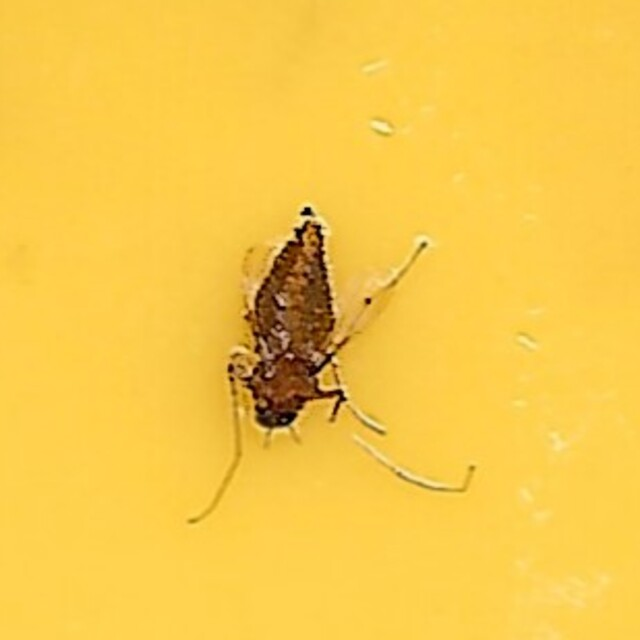Nematocera: (207, 198, 433, 442)
